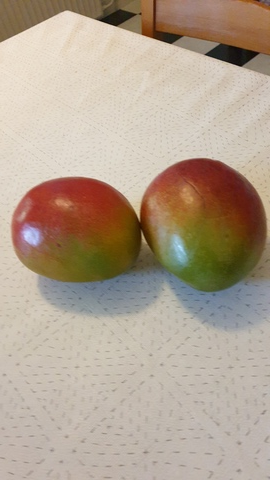Mango: (11, 177, 141, 285)
